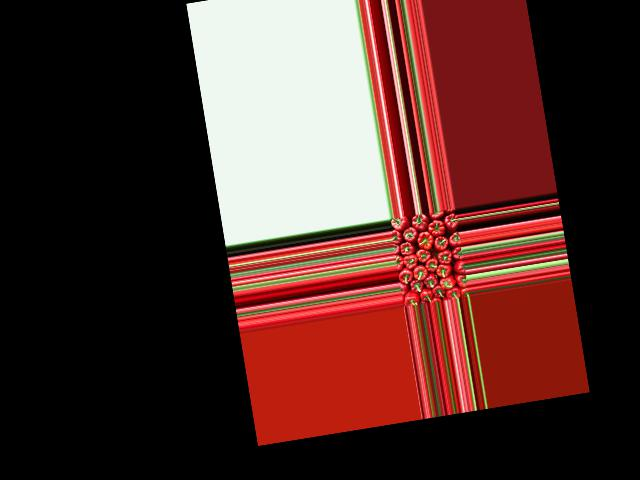bell_pepper: (402, 290, 418, 306)
